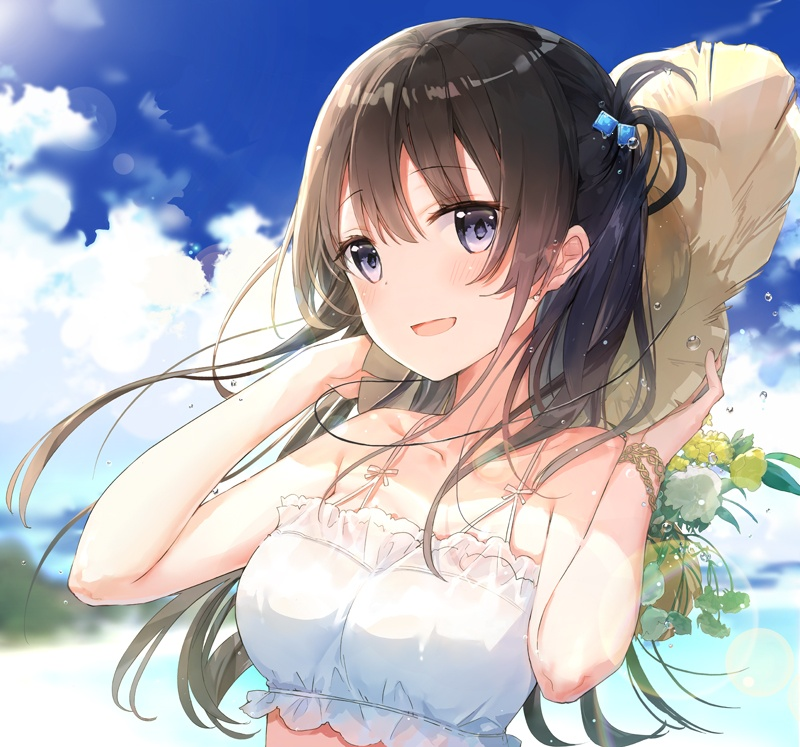纸片人正脸: (279, 6, 674, 388)
